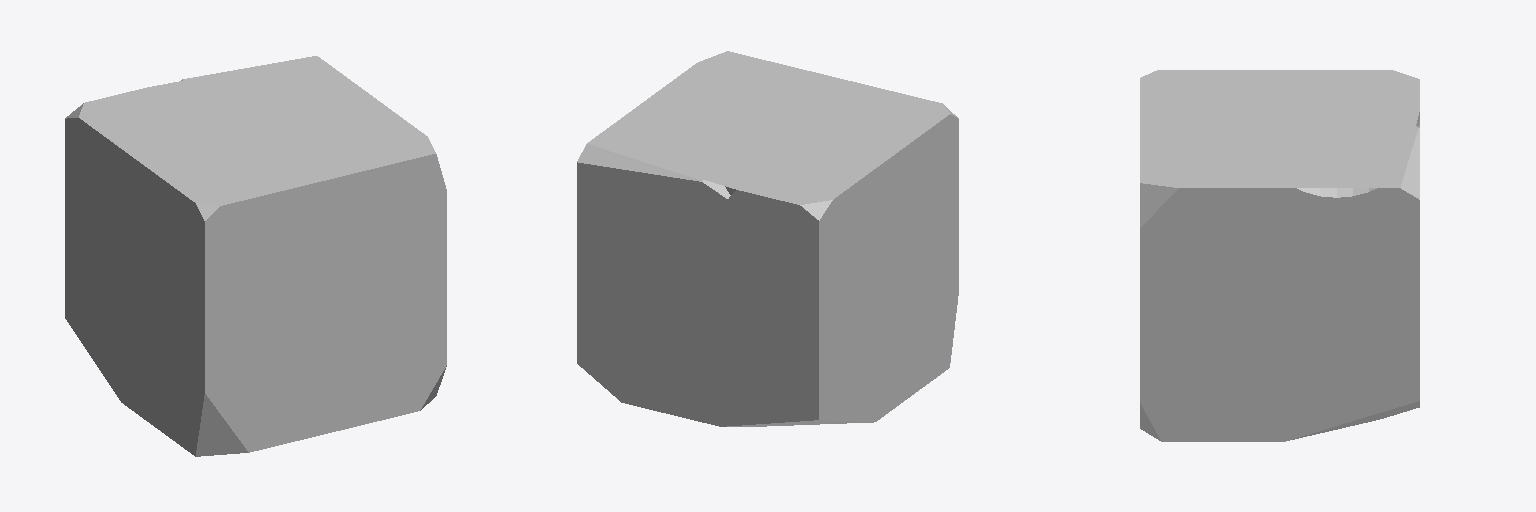
The model's file is tile2.obj.
3 views of the same model, side by side, from view 1: azimuth 30°, elevation 25°; view 2: azimuth 150°, elevation 25°; view 3: azimuth 270°, elevation 25° (orthographic).
Visible parts, largest first — view 1: Cube_Cube.002; view 2: Cube_Cube.002; view 3: Cube_Cube.002.
Boxes of the visible parts, <box> form: Cube_Cube.002: <box>65,56,446,456</box>; Cube_Cube.002: <box>577,51,958,426</box>; Cube_Cube.002: <box>1140,70,1419,441</box>.
Bounding box in the file's own units: 2 × 2 × 2.